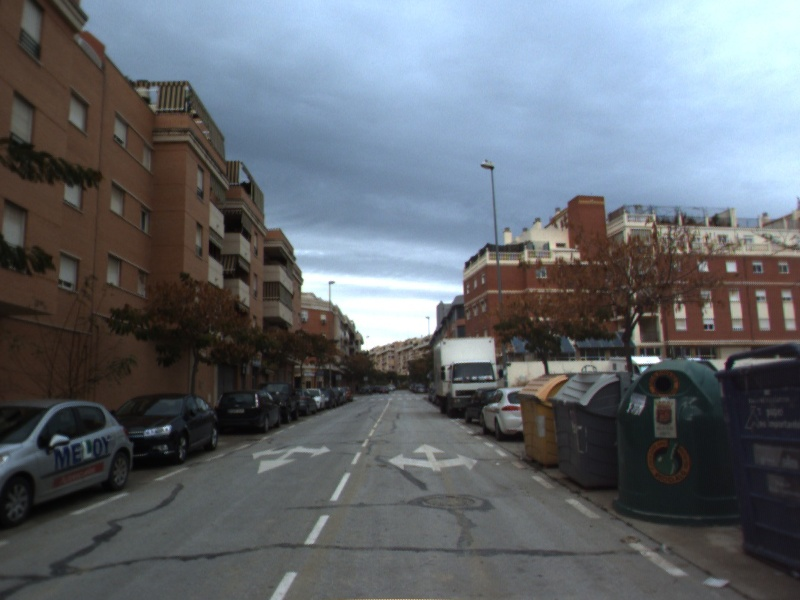STRAIGHT_LEFT_RIGHT: (386, 442, 480, 473)
